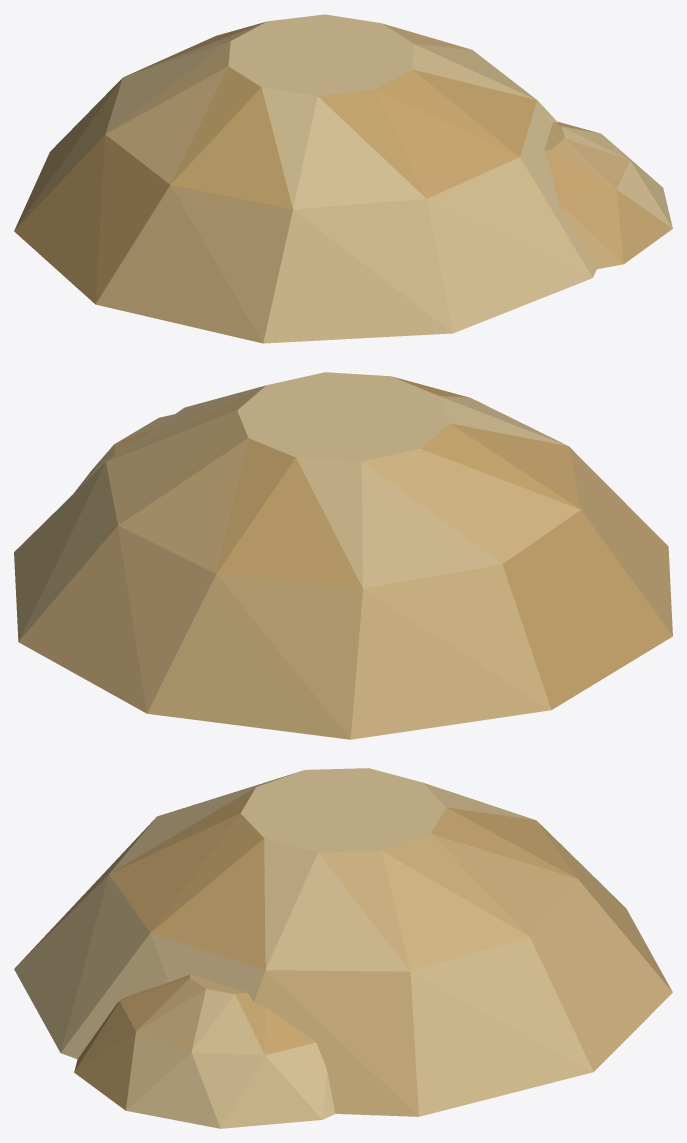
Rendered from SawdustPile.glb.
3 views of the same model, one above another, from view 1: azimuth 30°, elevation 25°; view 2: azimuth 150°, elevation 25°; view 3: azimuth 270°, elevation 25° (orthographic). The views are drawn at different scales.
Visible parts, largest first — view 1: Body; view 2: Body; view 3: Body.
Boxes of the visible parts, x1,y1,x2,y2 form: Body: (14, 14, 672, 343); Body: (14, 372, 672, 739); Body: (14, 768, 672, 1128).
Bounding box in the file's own units: 5.15 × 1.44 × 5.05.
